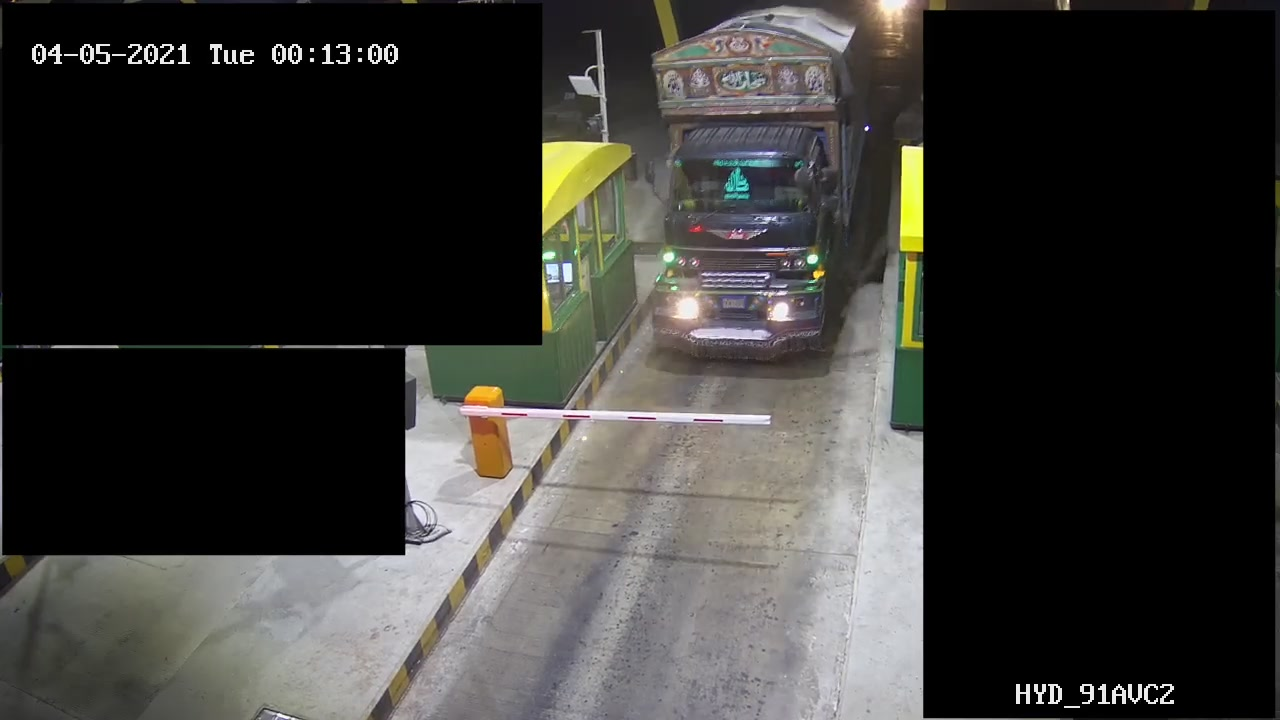F5: (643, 1, 866, 377)
